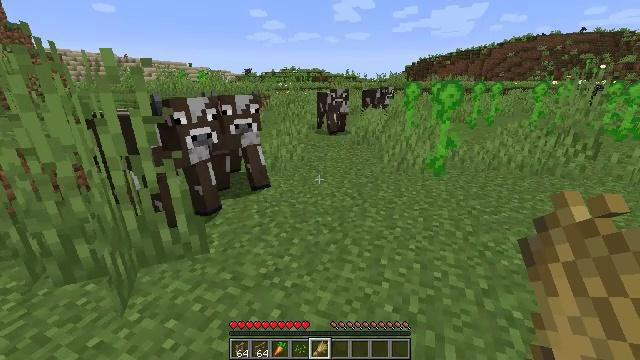cow: (85, 94, 218, 218), (220, 92, 266, 188), (317, 87, 349, 133), (361, 85, 395, 113)
